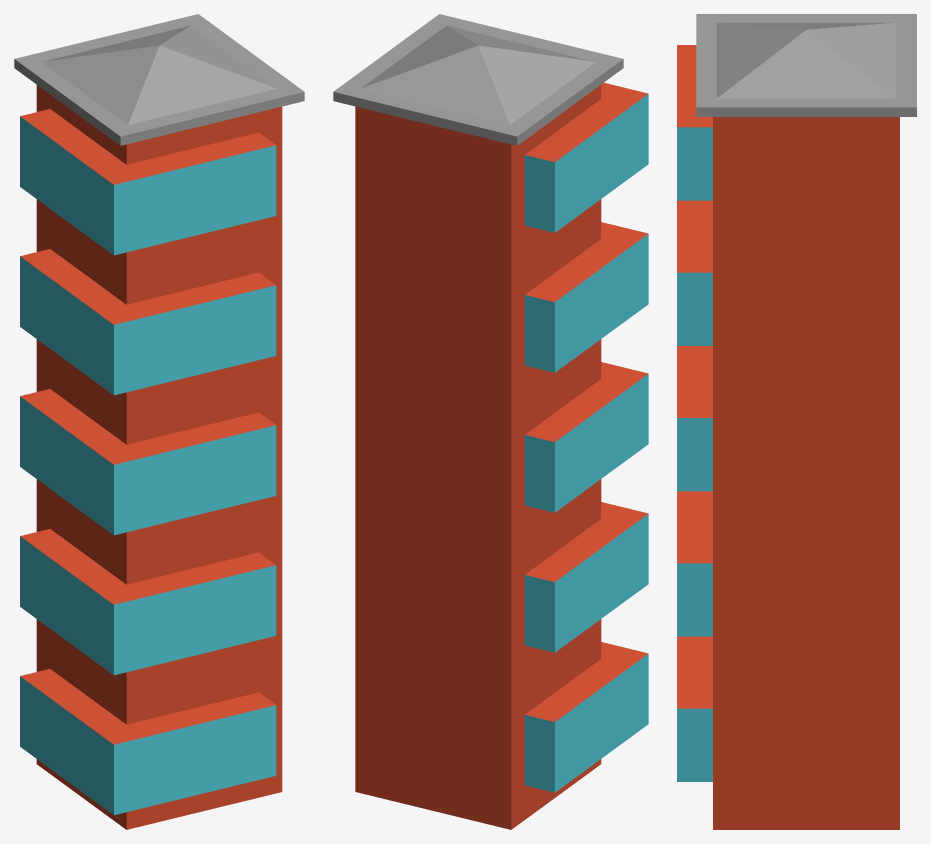
File: SM_Building_005.fbx
The picture shows the model from 3 angles, left to right: view 1: azimuth 30°, elevation 25°; view 2: azimuth 150°, elevation 25°; view 3: azimuth 270°, elevation 25°; orthographic projection. The views are drawn at different scales.
Parts seen in each view (by area): view 1: SM_Building_005.001; view 2: SM_Building_005.001; view 3: SM_Building_005.001.
Boxes of the visible parts, x1,y1,x2,y2 form: SM_Building_005.001: [14, 14, 304, 829]; SM_Building_005.001: [333, 14, 648, 829]; SM_Building_005.001: [677, 14, 916, 829].
Bounding box in the file's own units: 3.74 × 13.09 × 3.74.
